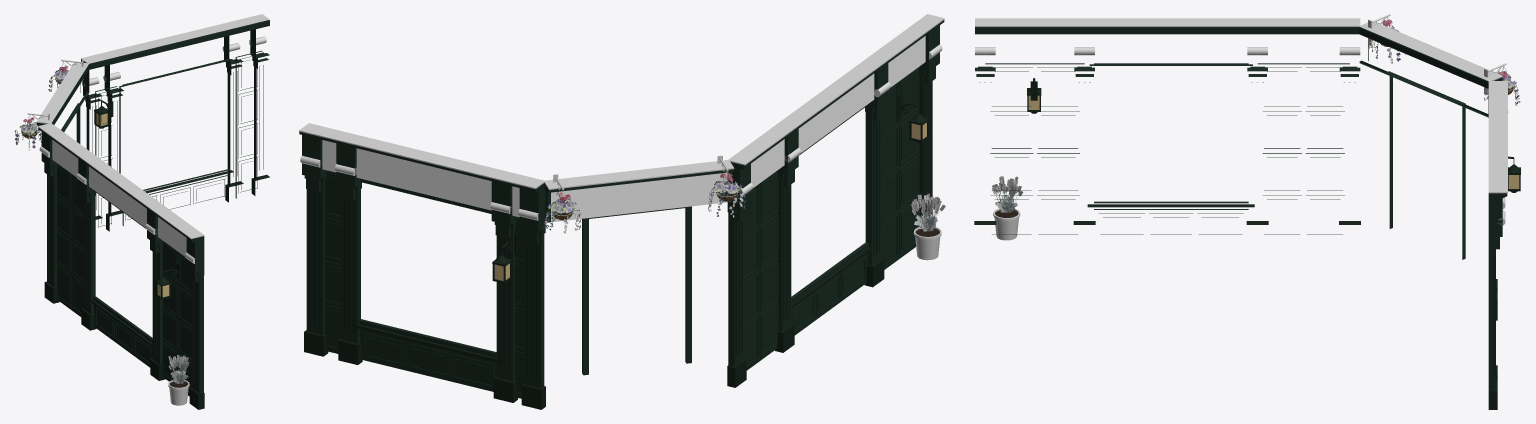
Rendered from library_facade.glb.
3 views of the same model, side by side, from view 1: azimuth 30°, elevation 25°; view 2: azimuth 150°, elevation 25°; view 3: azimuth 270°, elevation 25° (orthographic). The views are drawn at different scales.
Visible parts, largest first — view 1: library_facade; view 2: library_facade; view 3: library_facade.
Part boxes in pixels (x1=…): library_facade: x1=14, y1=14, x2=269, y2=409; library_facade: x1=299, y1=14, x2=945, y2=409; library_facade: x1=974, y1=14, x2=1520, y2=409.
Size of what is drawn, in the model's own units: 7.04 by 4.07 by 8.98.
